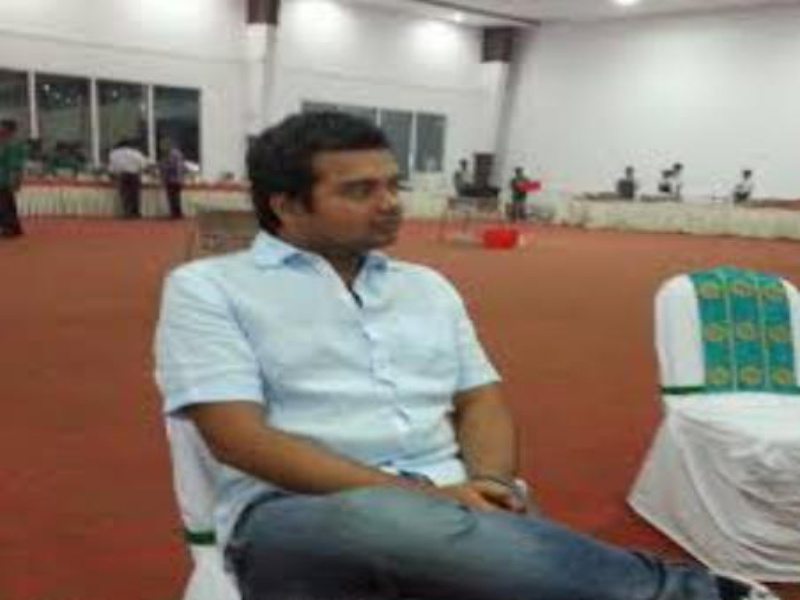TsisyArotava: (248, 105, 429, 279)
